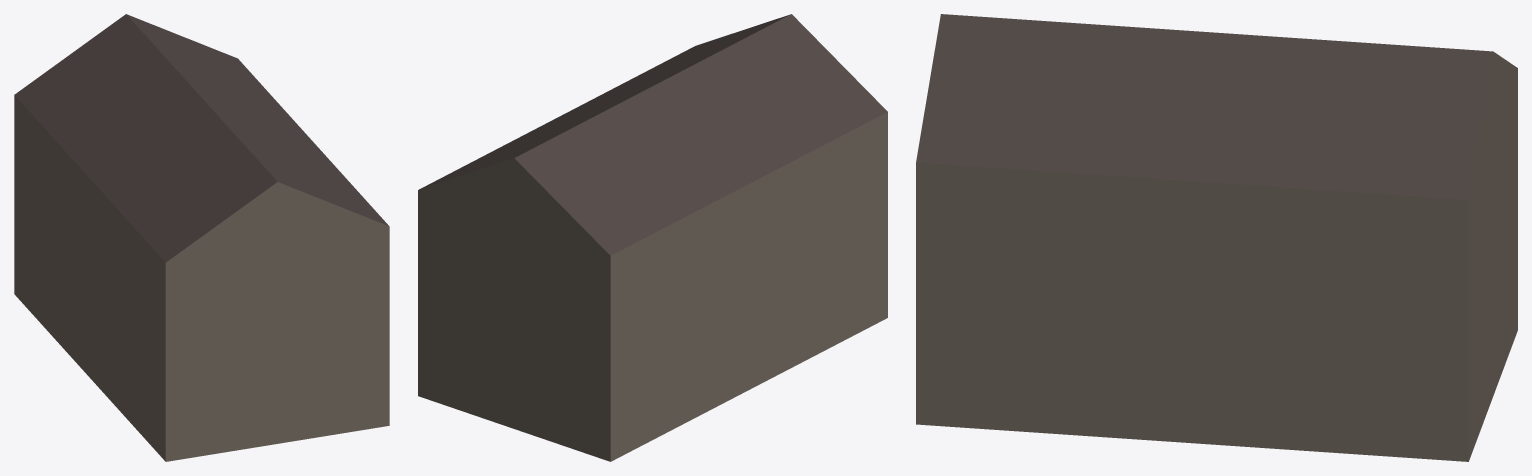
3 renders of one model, left to right at view 1: azimuth 30°, elevation 25°; view 2: azimuth 150°, elevation 25°; view 3: azimuth 270°, elevation 25°, orthographic. The views are drawn at different scales.
Visible parts, largest first — view 1: HP-w369342516; view 2: HP-w369342516; view 3: HP-w369342516.
Part boxes in pixels (x1,y1,x2,y2): HP-w369342516: (14,14,389,461); HP-w369342516: (418,14,887,461); HP-w369342516: (916,14,1517,461).
Bounding box in the file's own units: 8.3 × 7.89 × 12.48.
